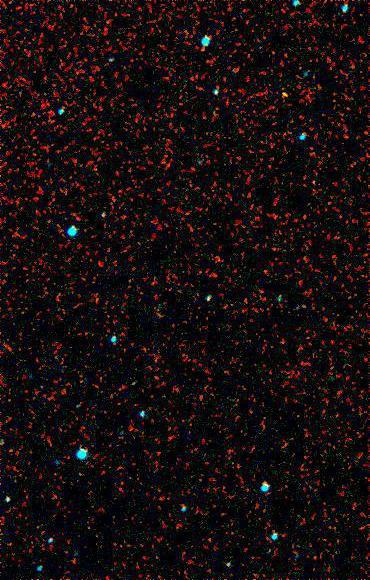star: (269, 82, 299, 112)
